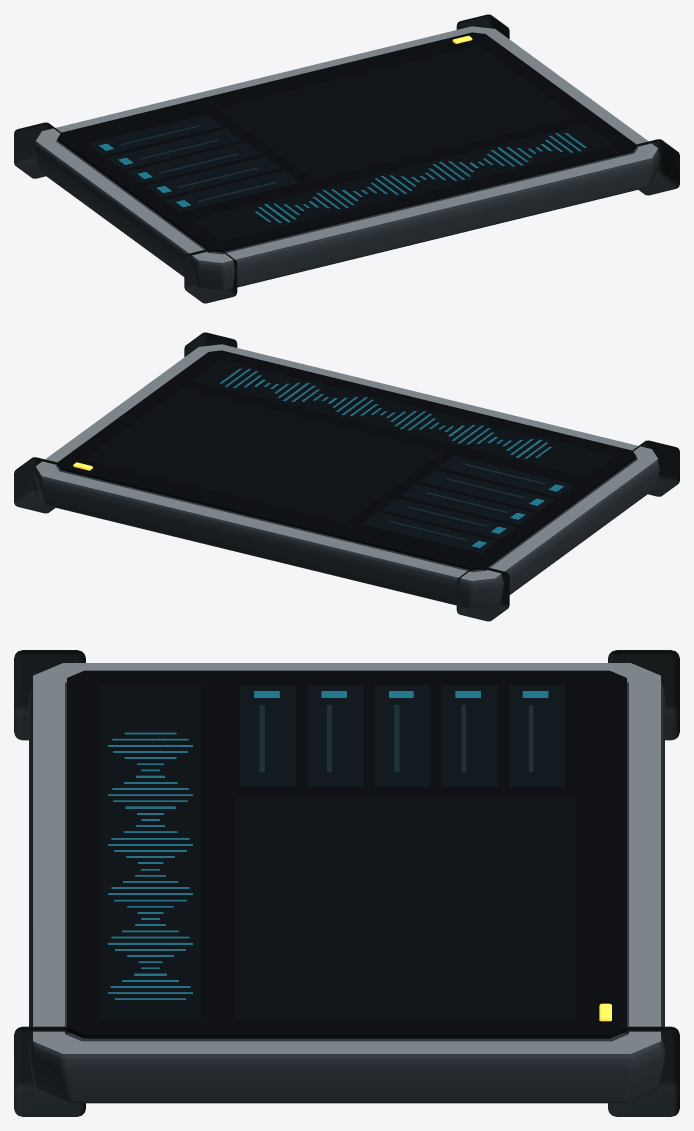
Rendered from ZH_PROP_TOOL_ElectronicLogbook.fbx.
The picture shows the model from 3 angles, top to bottom: view 1: azimuth 30°, elevation 25°; view 2: azimuth 150°, elevation 25°; view 3: azimuth 270°, elevation 25°; orthographic projection. The views are drawn at different scales.
Visible parts, largest first — view 1: Logbook | LCD.001, Logbook | tapered shell.001, Logbook | metal lip.001, Logbook | rubber corner.006, Logbook | rubber corner.005, Logbook | rubber corner.004, Logbook | rubber corner.007; view 2: Logbook | LCD.001, Logbook | tapered shell.001, Logbook | metal lip.001, Logbook | rubber corner.007, Logbook | rubber corner.004, Logbook | rubber corner.005, Logbook | rubber corner.006; view 3: Logbook | LCD.001, Logbook | tapered shell.001, Logbook | metal lip.001, Logbook | rubber corner.006, Logbook | rubber corner.007, Logbook | rubber corner.004, Logbook | rubber corner.005.
Boxes of the visible parts, x1,y1,x2,y2 form: Logbook | LCD.001: (57, 32, 636, 252); Logbook | tapered shell.001: (34, 139, 659, 290); Logbook | metal lip.001: (36, 26, 657, 262); Logbook | rubber corner.006: (631, 139, 679, 195); Logbook | rubber corner.005: (14, 122, 61, 178); Logbook | rubber corner.004: (184, 247, 237, 303); Logbook | rubber corner.007: (456, 14, 509, 38); Logbook | LCD.001: (57, 350, 636, 570); Logbook | tapered shell.001: (34, 457, 659, 608); Logbook | metal lip.001: (36, 344, 657, 580); Logbook | rubber corner.007: (14, 457, 62, 513); Logbook | rubber corner.004: (632, 440, 679, 496); Logbook | rubber corner.005: (456, 565, 509, 621); Logbook | rubber corner.006: (184, 332, 237, 356); Logbook | LCD.001: (67, 670, 626, 1038); Logbook | tapered shell.001: (29, 681, 664, 1103); Logbook | metal lip.001: (33, 663, 660, 1053); Logbook | rubber corner.006: (14, 1026, 85, 1116); Logbook | rubber corner.007: (608, 1026, 679, 1116); Logbook | rubber corner.004: (14, 650, 85, 740); Logbook | rubber corner.005: (608, 650, 679, 740).
Size of the model in its own units: 0.227 by 0.0175 by 0.157.
Materials: 6 (1 with a texture image).
